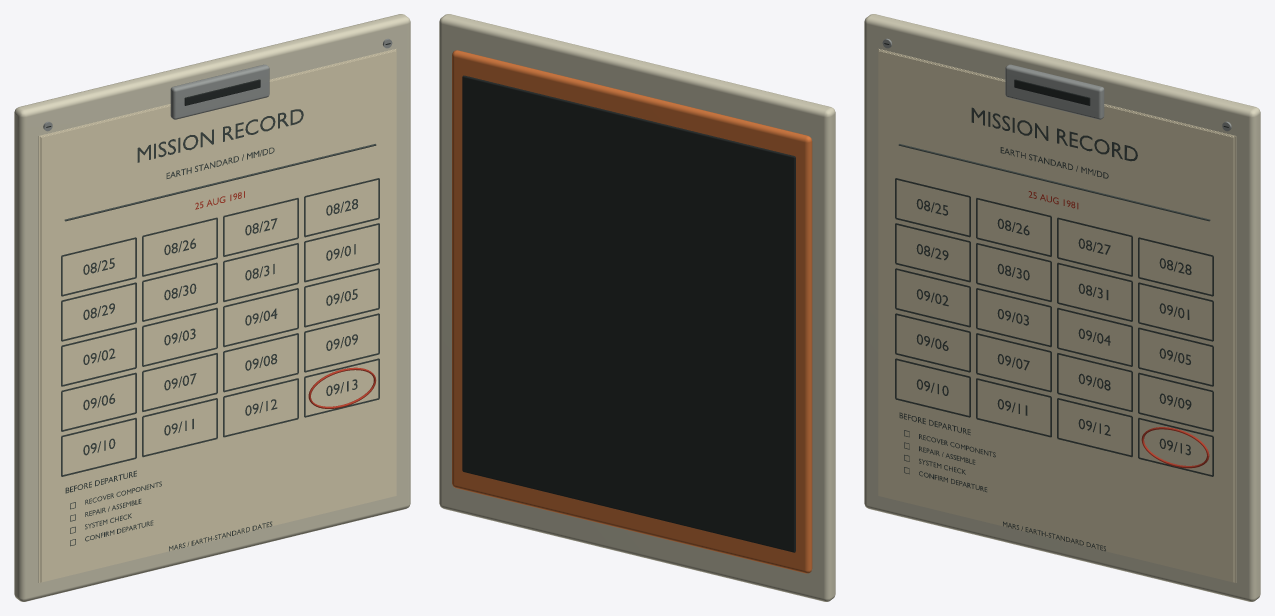
The model's file is ReturnCalendar.glb.
The picture shows the model from 3 angles, left to right: view 1: azimuth 30°, elevation 25°; view 2: azimuth 150°, elevation 25°; view 3: azimuth 330°, elevation 25°; orthographic projection.
Visible parts, largest first — view 1: ReturnCalendar_StaticGeometry, CalendarPlanPrint, CalendarDatePrint; view 2: ReturnCalendar_StaticGeometry; view 3: ReturnCalendar_StaticGeometry, CalendarPlanPrint, CalendarDatePrint.
Boxes of the visible parts, left/top/right/bottom form: ReturnCalendar_StaticGeometry: left=14, top=14, right=410, bottom=601; CalendarPlanPrint: left=61, top=178, right=379, bottom=546; CalendarDatePrint: left=83, top=191, right=376, bottom=455; ReturnCalendar_StaticGeometry: left=439, top=14, right=835, bottom=601; ReturnCalendar_StaticGeometry: left=864, top=14, right=1260, bottom=601; CalendarPlanPrint: left=895, top=178, right=1213, bottom=492; CalendarDatePrint: left=916, top=191, right=1209, bottom=468.
Size of the model in its own units: 0.3 by 0.36 by 0.026.
